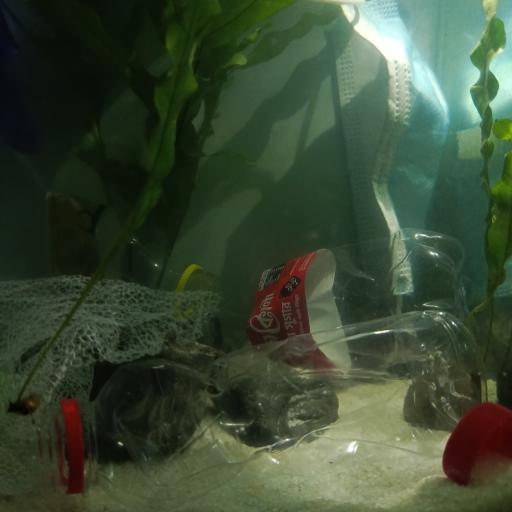bottle_cap: (443, 398, 512, 485)
mask: (330, 0, 450, 297)
net: (0, 276, 220, 485)
plastic_bottle: (34, 309, 490, 495), (230, 228, 482, 362), (0, 186, 222, 324)
